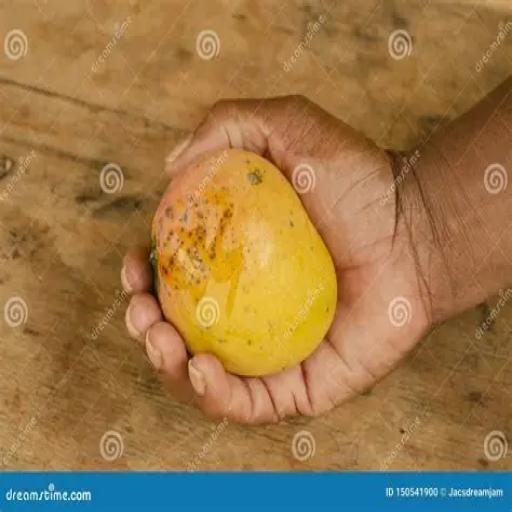mango: (152, 150, 337, 376)
